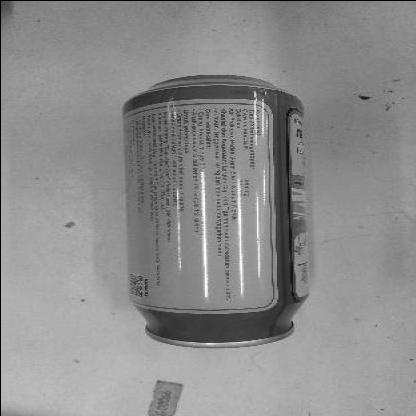alumunium_can: (119, 71, 306, 348)
